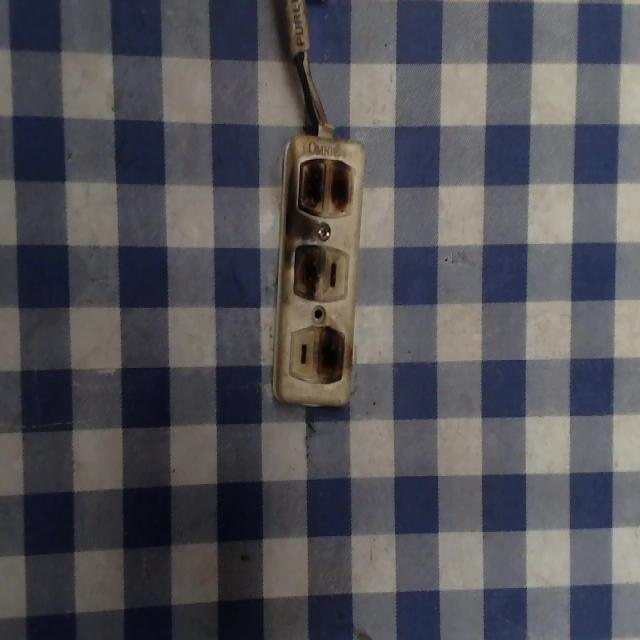-: (294, 148, 358, 219), (285, 239, 328, 297), (313, 322, 347, 390)
